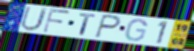1: (155, 20, 170, 45)
F: (41, 8, 72, 34)
G: (124, 18, 149, 42)
P: (93, 13, 122, 40)
T: (78, 13, 98, 37)
U: (19, 6, 49, 32)
